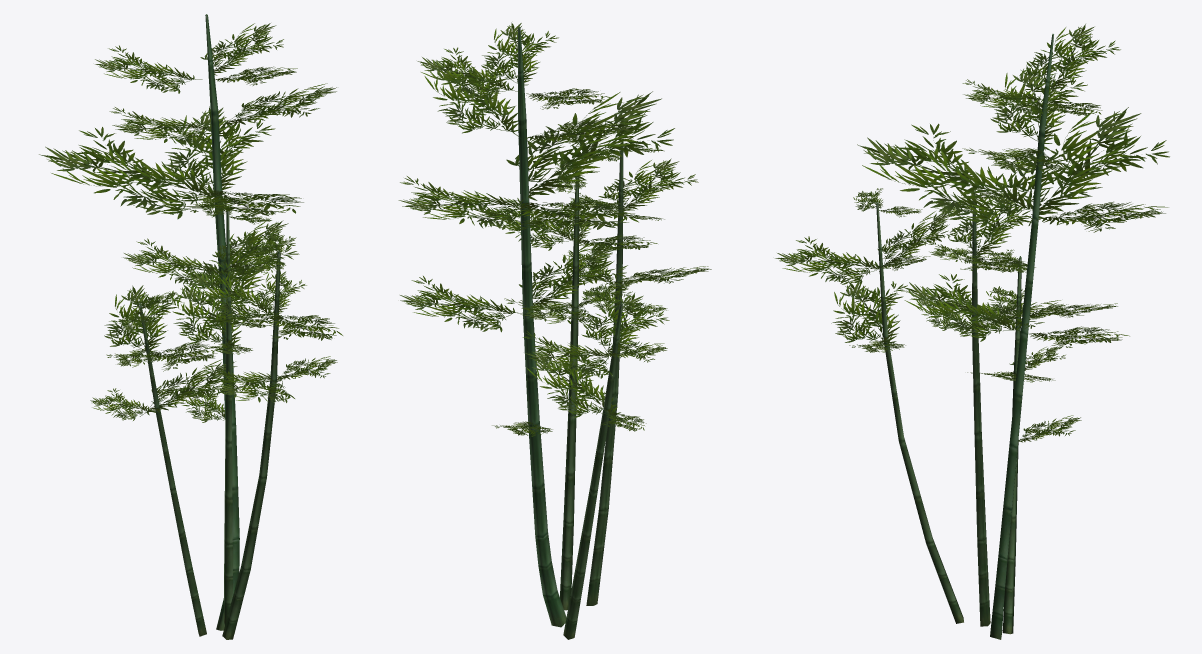
3 renders of one model, left to right at view 1: azimuth 30°, elevation 25°; view 2: azimuth 150°, elevation 25°; view 3: azimuth 270°, elevation 25°, orthographic. The views are drawn at different scales.
Parts seen in each view (by area): view 1: group2_polySurface2734; view 2: group2_polySurface2734; view 3: group2_polySurface2734.
Part boxes in pixels (box(x1,y1,x2,y2)): group2_polySurface2734: box(39, 14, 342, 639); group2_polySurface2734: box(398, 22, 711, 639); group2_polySurface2734: box(775, 24, 1169, 639).
Size of the model in its own units: 16.64 by 34.36 by 21.75.
1 material, 1 textured.
